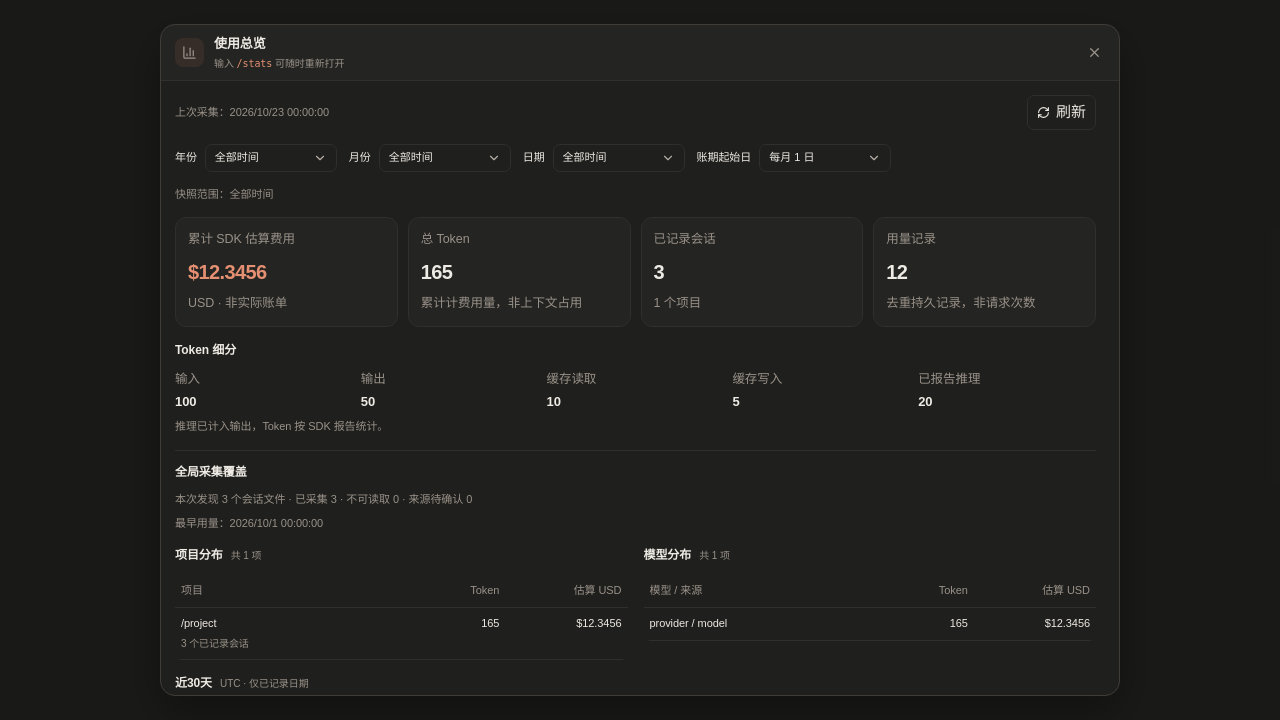
Test: UsageOverviewModal local snapshot lifecycle › reads on each open or explicit refresh, retains successful data and reports failure without zeroing it
The image size is (1280, 720).
Expected: the text "$12.3456" is shown, [188, 261, 267, 283]
Expected: the text "165" is shown, [421, 261, 452, 283]
Click the button "刷新" at (1062, 112), box [1027, 95, 1096, 130]
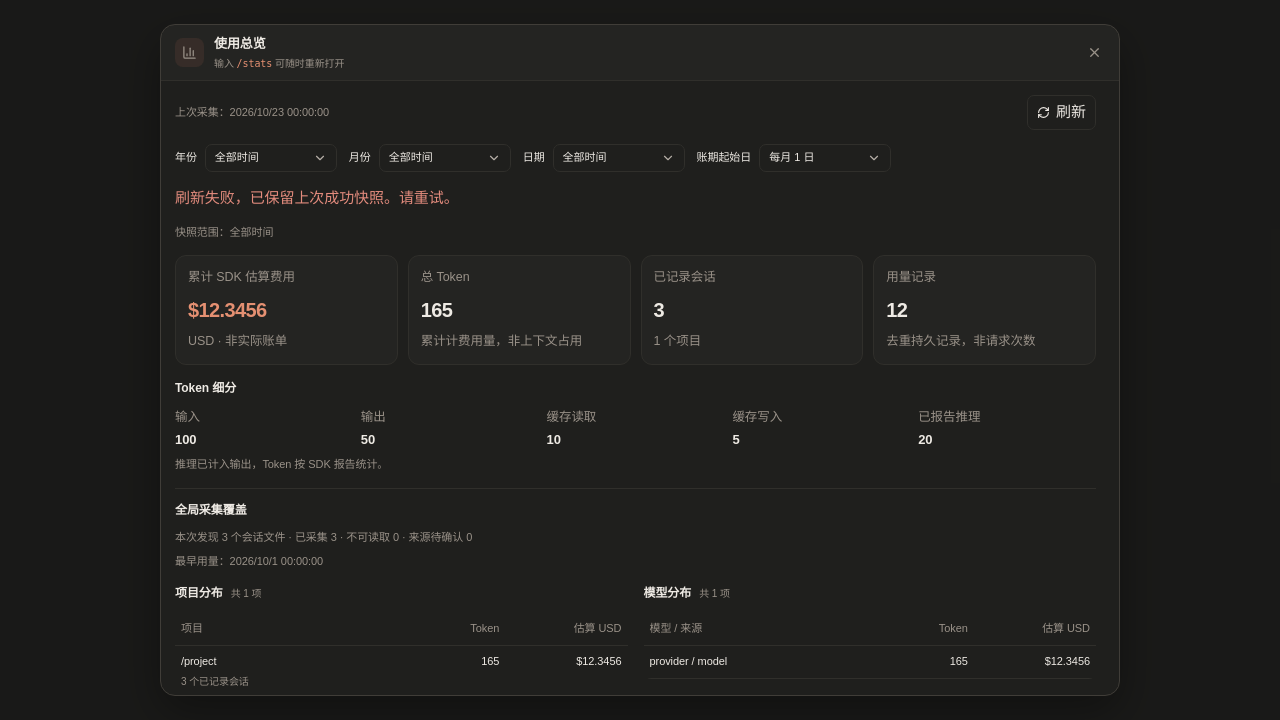
Expected: the text "$12.3456" is shown, [188, 299, 267, 321]
Expected: the message shows "刷新失败，已保留上次成功快照。", [175, 188, 459, 206]
